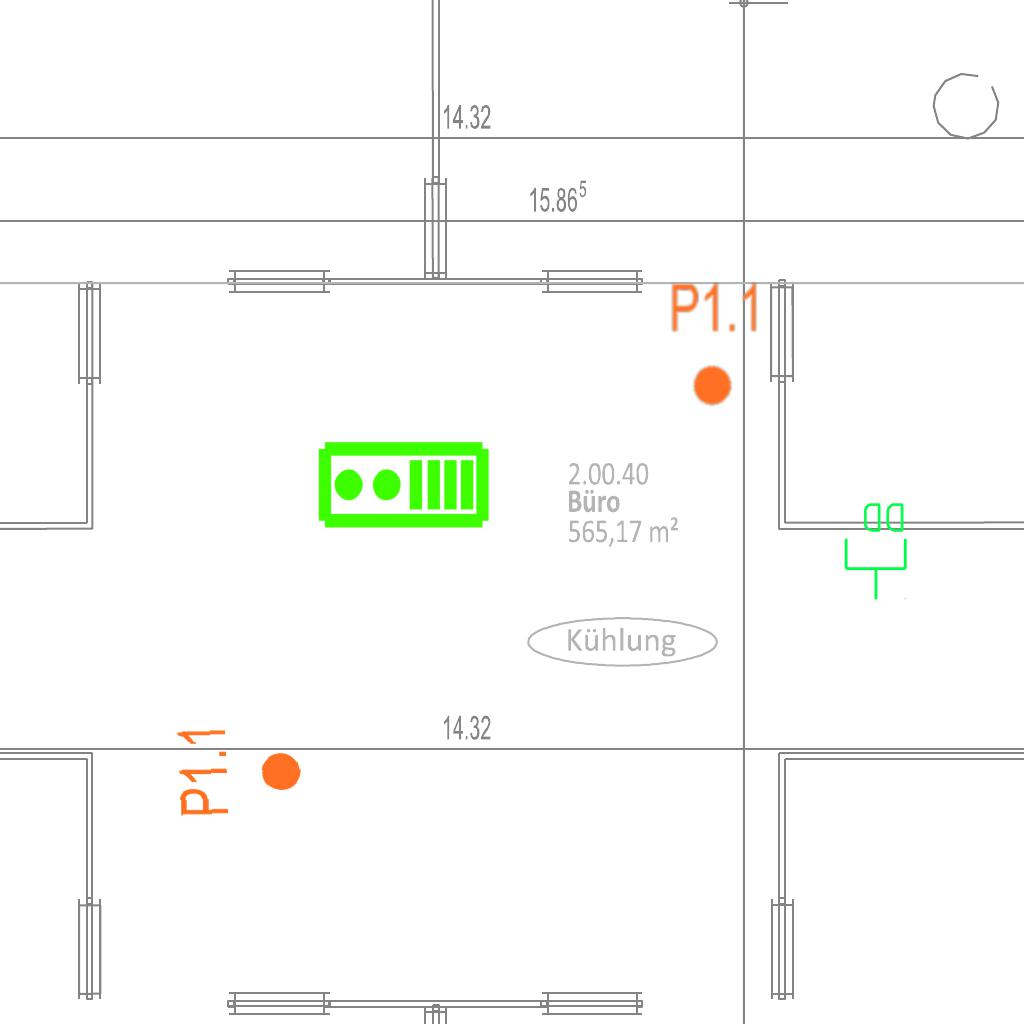Datenanschluss_zweifach: (842, 499, 911, 602)
Downlight_LED_Einbauleuchten_Flur: (173, 721, 306, 819), (669, 280, 762, 408)
Gegensprechanlage_mit_Video: (315, 439, 491, 534)
